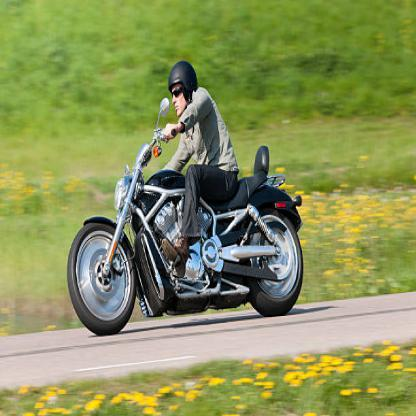Motorcycle: (65, 119, 314, 320)
